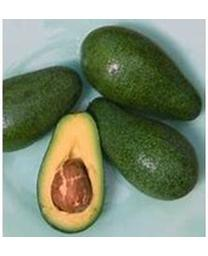avocado: (80, 23, 203, 127), (85, 95, 200, 201), (35, 111, 108, 233), (2, 64, 83, 155)
